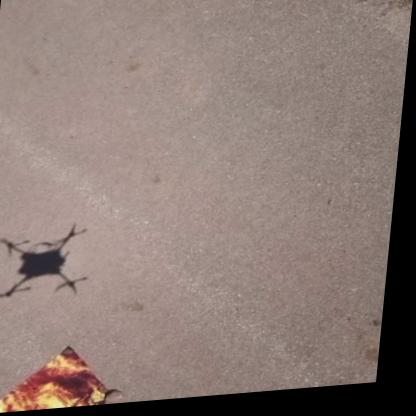fire-poster: (0, 344, 135, 415)
